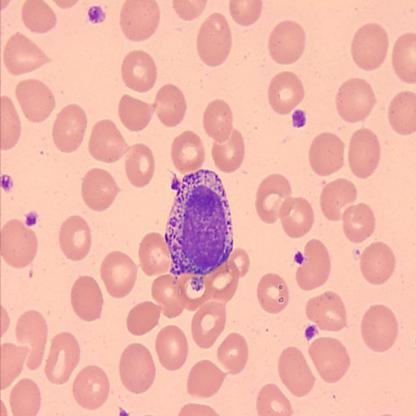Myelocyte: (166, 170, 234, 287)
